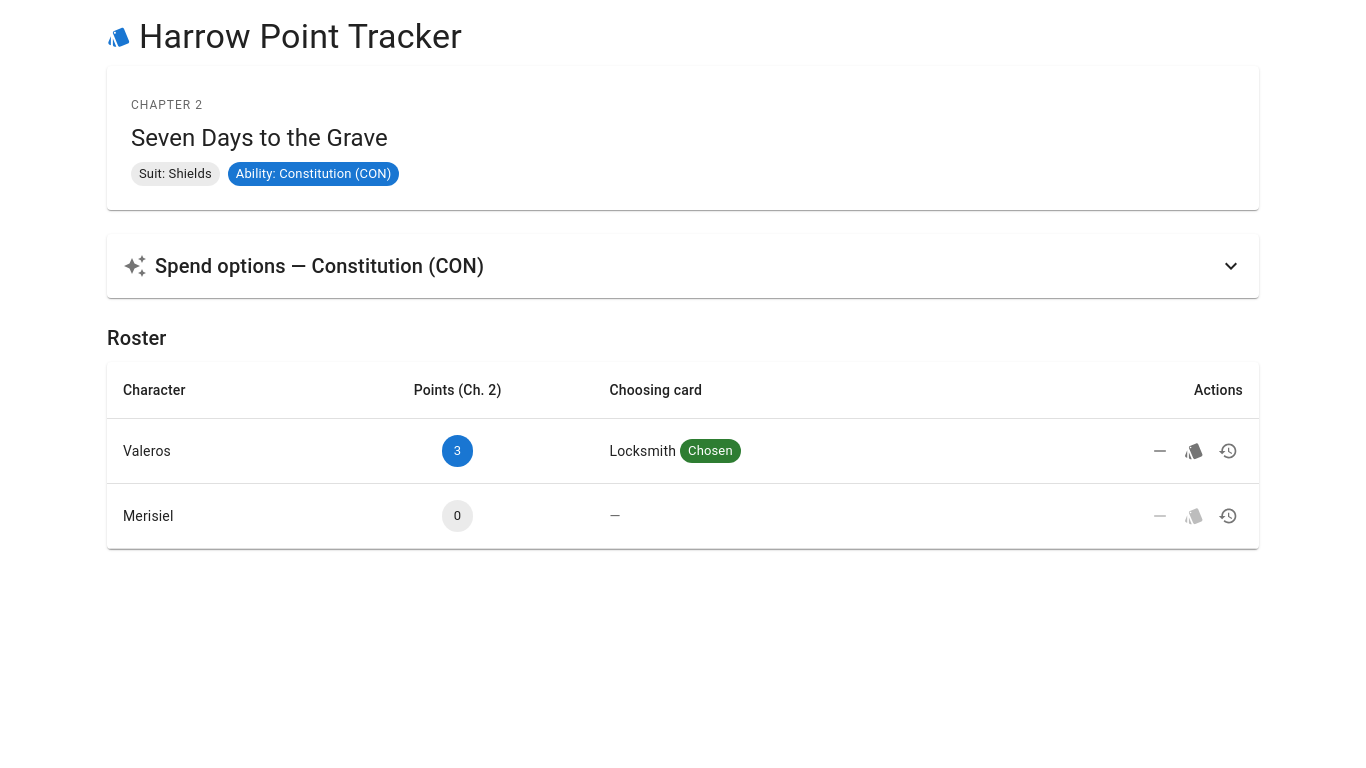
Test case: HarrowTracker › player actions › loads a character's ledger into the history drawer
Expected: the text "Valeros" is shown, [107,418,322,483]
Click the button named "History for Valeros" at {"x": 1228, "y": 451}, box [1213,436,1243,466]
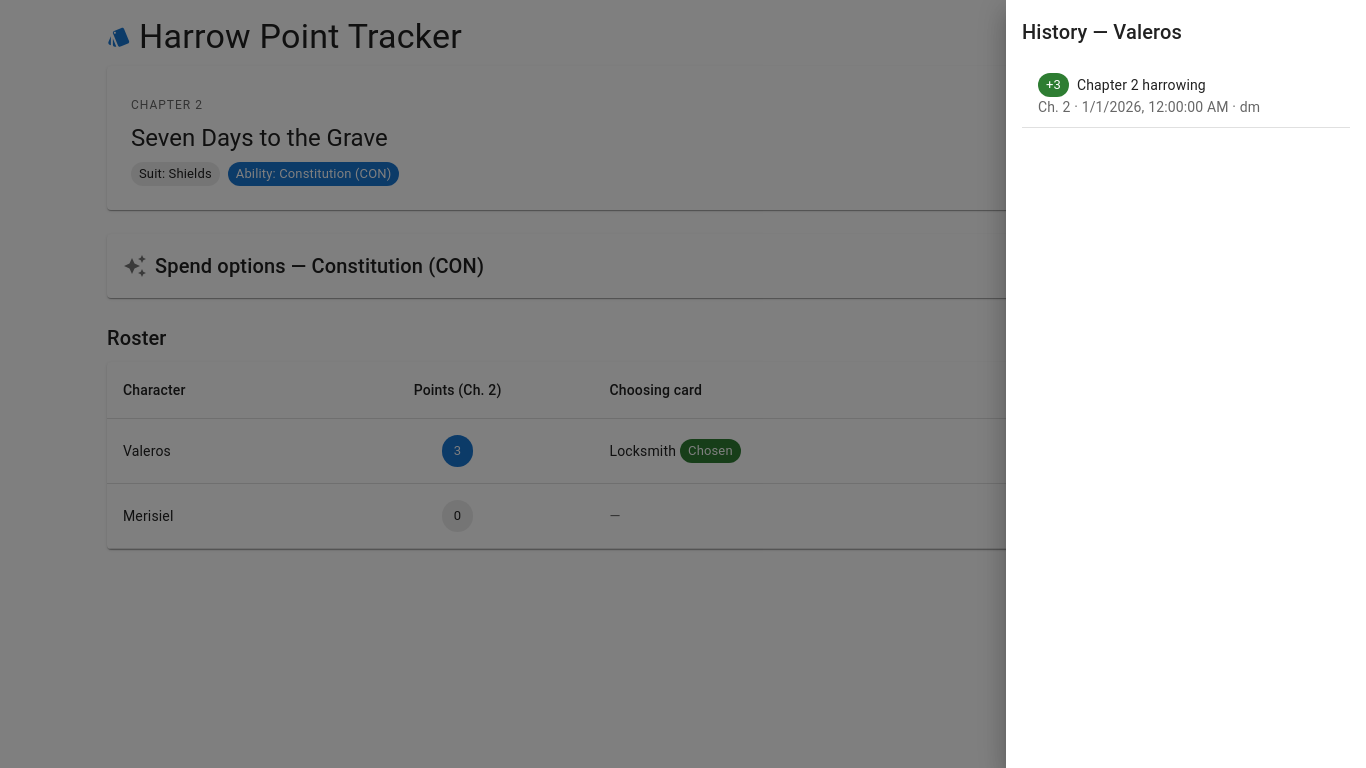
Expected: the text "Chapter 2 harrowing" is shown, [1077,75,1206,95]
